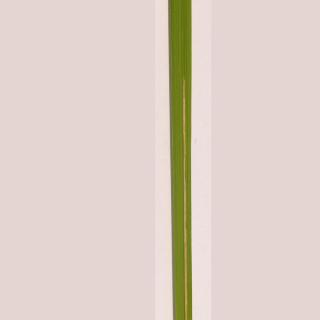Hawar-Daun: (174, 75, 194, 314)
